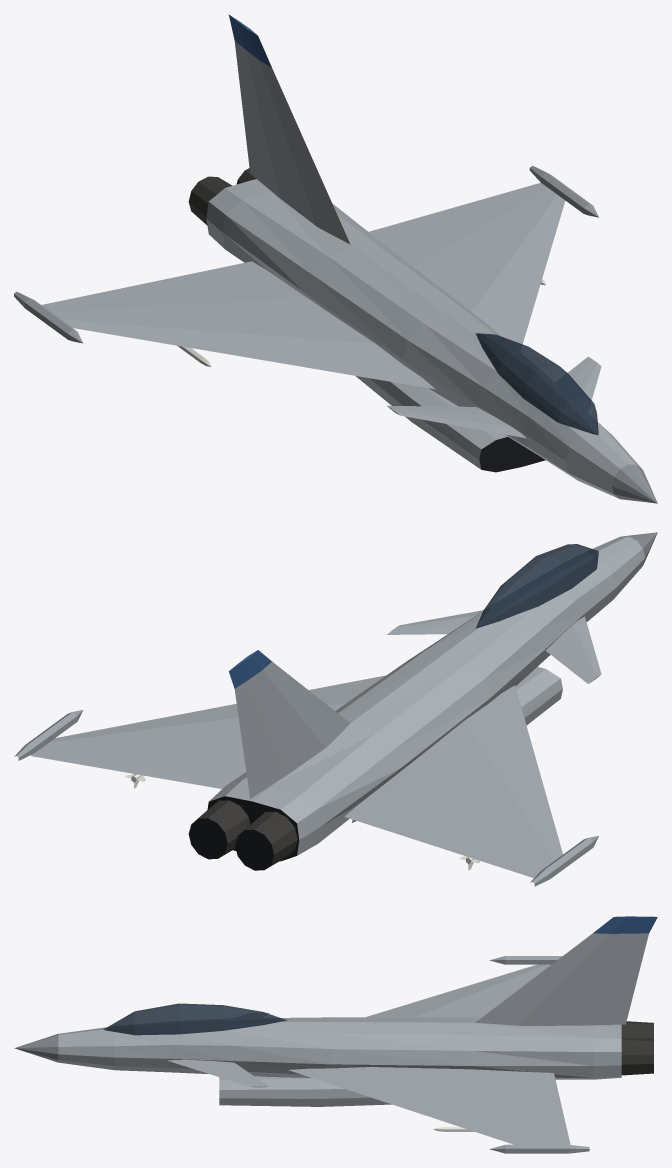
File: ecf90.glb
3 renders of one model, top to bottom at view 1: azimuth 30°, elevation 25°; view 2: azimuth 150°, elevation 25°; view 3: azimuth 270°, elevation 25°, orthographic. The views are drawn at different scales.
Parts seen in each view (by area): view 1: airframe, canopy, stores; view 2: airframe, canopy, stores; view 3: airframe, canopy, stores.
Part boxes in pixels (bbox=[...]): airframe: bbox=[41, 14, 657, 503]; canopy: bbox=[475, 333, 598, 435]; stores: bbox=[14, 165, 598, 366]; airframe: bbox=[31, 532, 657, 877]; canopy: bbox=[476, 544, 598, 628]; stores: bbox=[14, 710, 598, 886]; airframe: bbox=[14, 916, 657, 1144]; canopy: bbox=[103, 1003, 287, 1035]; stores: bbox=[433, 956, 589, 1153].
Size of the model in its own units: 11.31 by 4.95 by 16.
